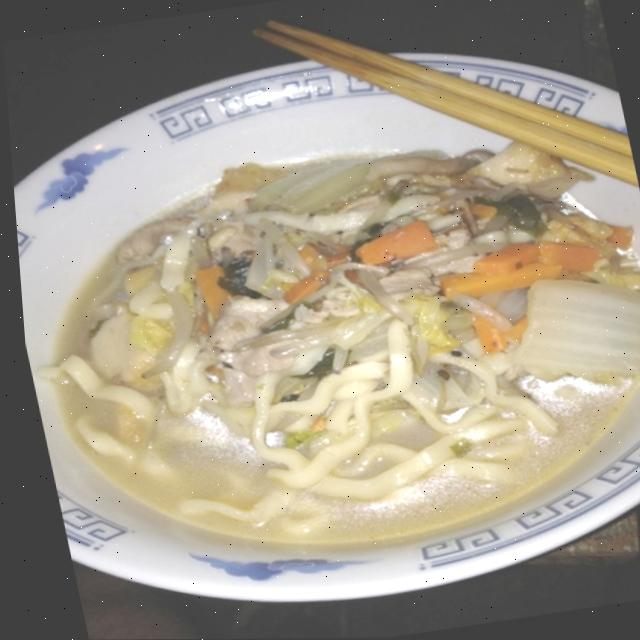牛肉菜式: (111, 117, 640, 509)
